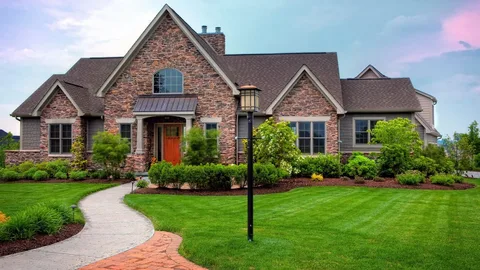private_hause: (53, 40, 425, 172)
